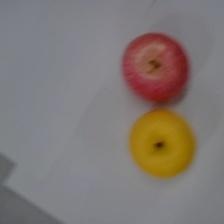red: (121, 30, 190, 103)
yellow: (128, 108, 195, 178)
